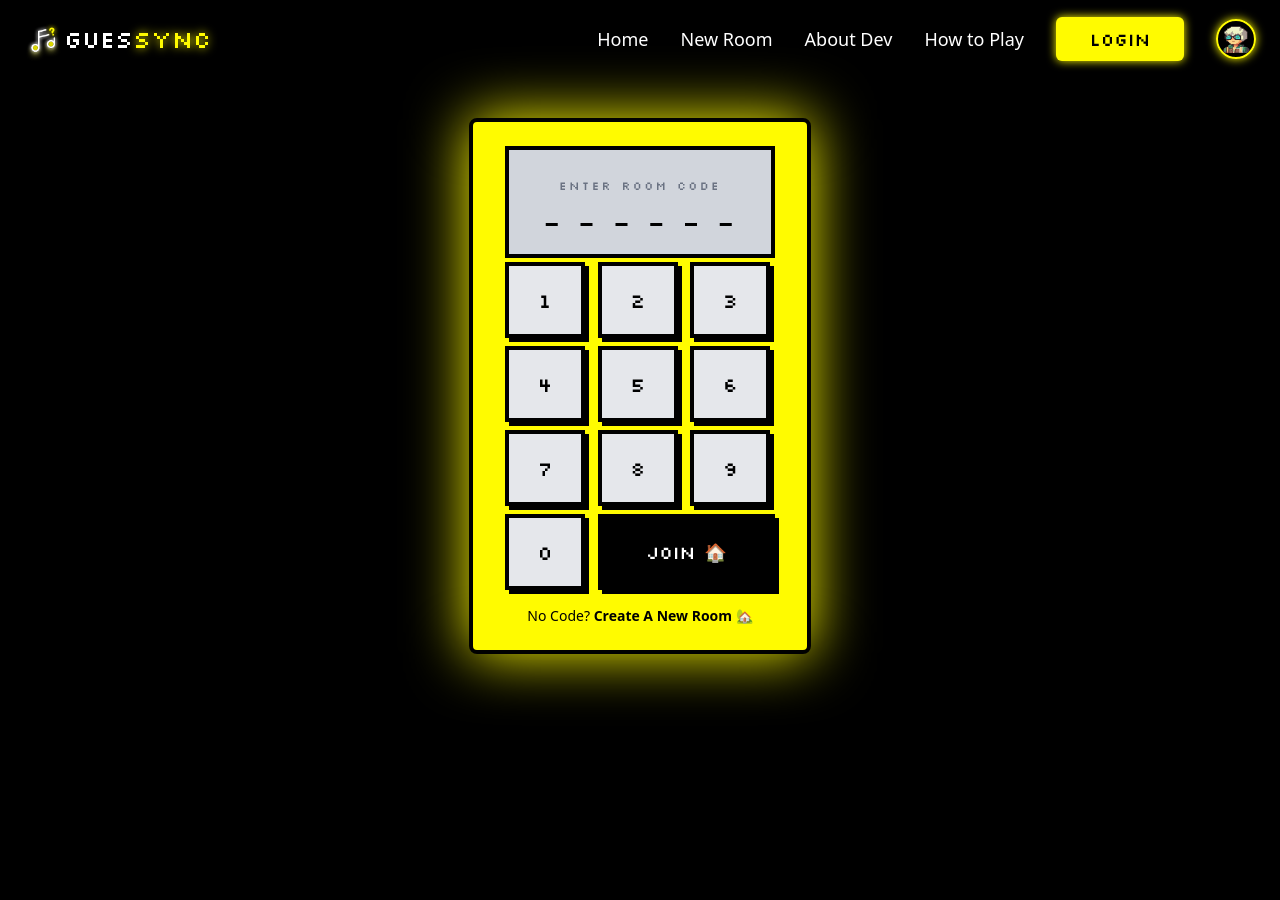
Scenario: JoinRoom Page › 1. Shows error on Join without 6-digit code
The image size is (1280, 900).
Click the button "JOIN 🏠" at [686, 552], box [598,514,775,590]
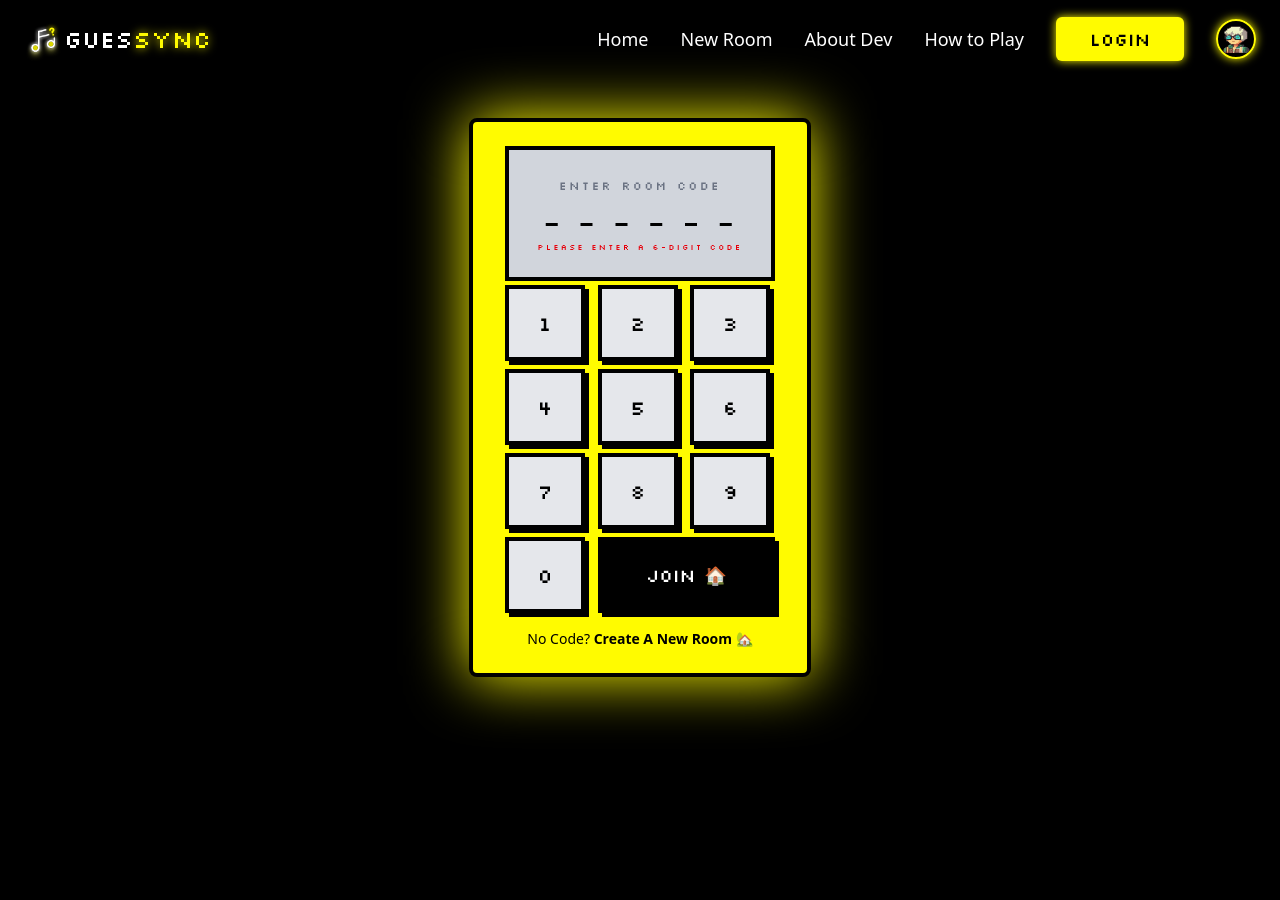
Expected: the text "Please enter a 6-digit code" is shown, [533,242,747,253]
